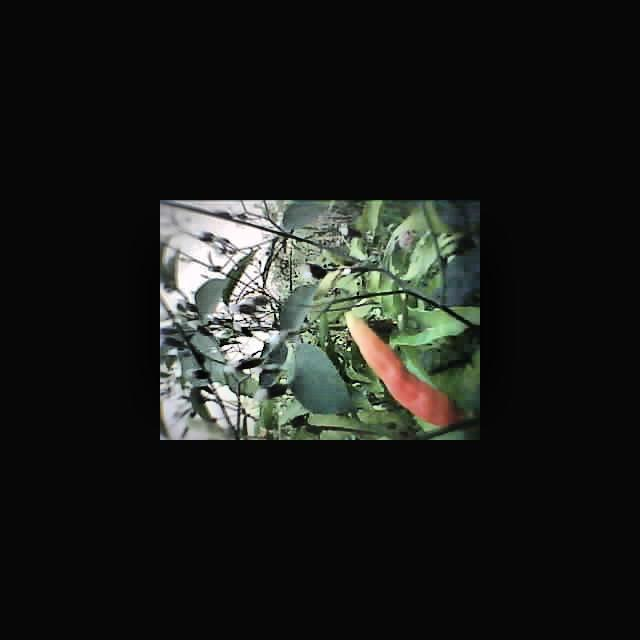Cabai: (341, 310, 468, 429)
